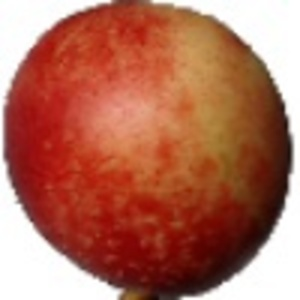nectarina: (2, 1, 295, 300)
